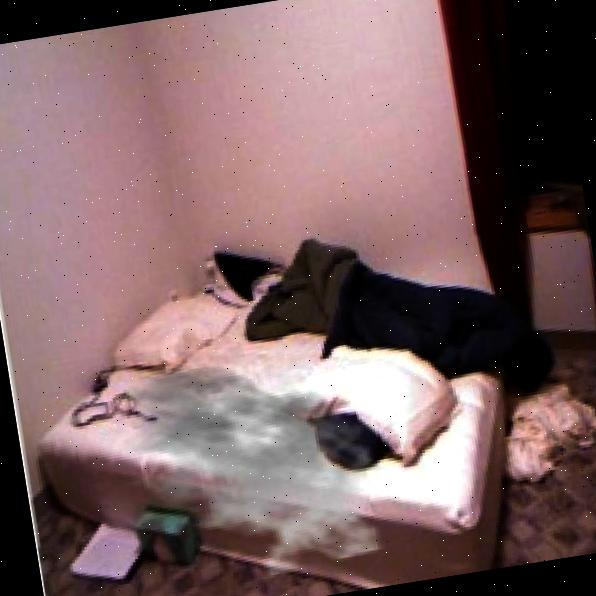smoke: (93, 331, 401, 596)
